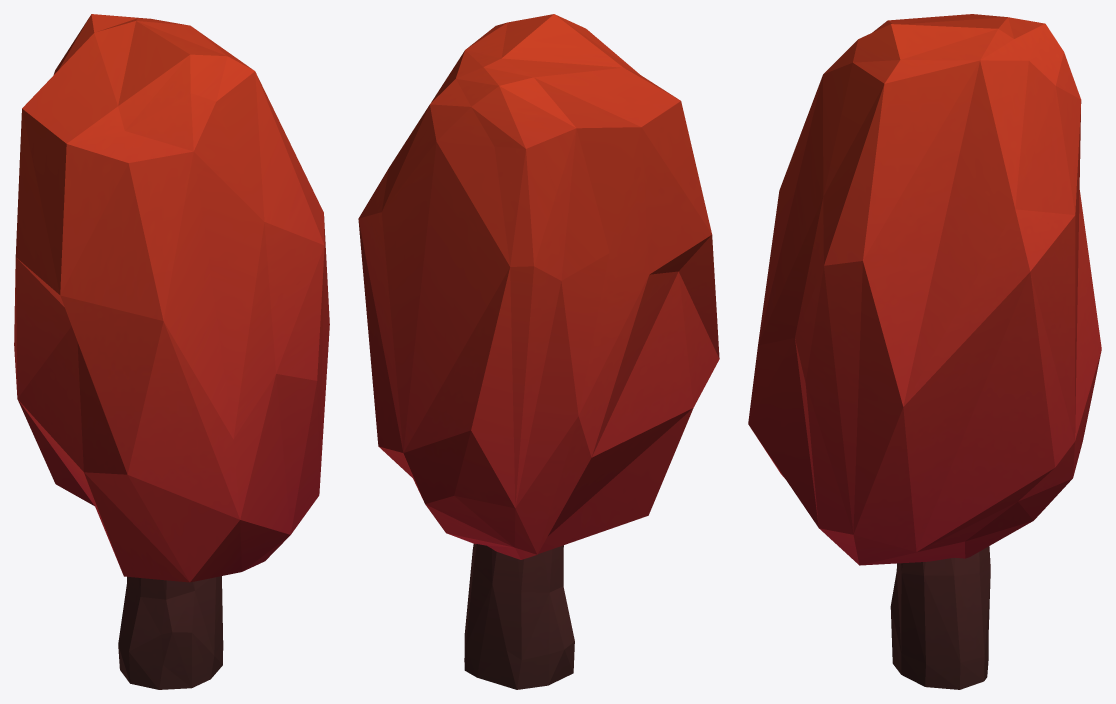
File: Stump_002.fbx
The picture shows the model from 3 angles, left to right: view 1: azimuth 30°, elevation 25°; view 2: azimuth 150°, elevation 25°; view 3: azimuth 270°, elevation 25°; orthographic projection.
Parts seen in each view (by area): view 1: Stump.002; view 2: Stump.002; view 3: Stump.002.
Part boxes in pixels (box(x1,y1,x2,y2)): Stump.002: box(14, 14, 329, 689); Stump.002: box(358, 14, 719, 689); Stump.002: box(748, 14, 1101, 689).
Size of the model in its own units: 31.61 by 66.45 by 33.24.
